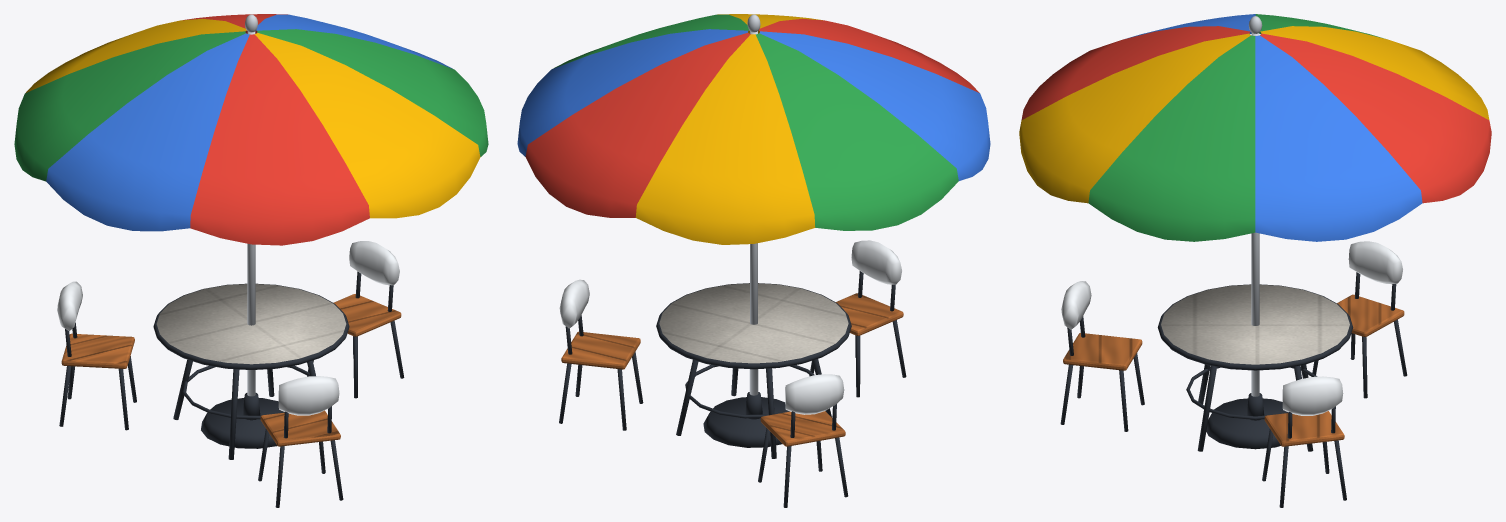
The model's file is prop_umbrella_bistro.glb.
3 views of the same model, side by side, from view 1: azimuth 30°, elevation 25°; view 2: azimuth 150°, elevation 25°; view 3: azimuth 270°, elevation 25° (orthographic).
Parts seen in each view (by area): view 1: Umb_CanopyRed, Umb_CanopyBlue, Umb_CanopyYellow, Umb_CanopyGreen, Umb_BistroTable, Umb_MetalFrames, Umb_ChairSeats, Umb_ChairBacks, Umb_AluminumPoleRibs; view 2: Umb_CanopyYellow, Umb_CanopyGreen, Umb_CanopyRed, Umb_CanopyBlue, Umb_BistroTable, Umb_MetalFrames, Umb_ChairSeats, Umb_ChairBacks, Umb_AluminumPoleRibs; view 3: Umb_CanopyBlue, Umb_CanopyGreen, Umb_CanopyRed, Umb_CanopyYellow, Umb_BistroTable, Umb_MetalFrames, Umb_ChairSeats, Umb_ChairBacks, Umb_AluminumPoleRibs.
Part boxes in pixels (<box>): Umb_CanopyRed: <box>183,14,369,245</box>; Umb_CanopyBlue: <box>46,14,452,231</box>; Umb_CanopyYellow: <box>26,18,480,218</box>; Umb_CanopyGreen: <box>14,29,488,181</box>; Umb_BistroTable: <box>156,284,346,364</box>; Umb_MetalFrames: <box>59,271,404,507</box>; Umb_ChairSeats: <box>61,294,401,446</box>; Umb_ChairBacks: <box>57,241,399,415</box>; Umb_AluminumPoleRibs: <box>245,14,257,396</box>; Umb_CanopyYellow: <box>635,14,822,244</box>; Umb_CanopyGreen: <box>553,14,958,230</box>; Umb_CanopyRed: <box>525,18,979,217</box>; Umb_CanopyBlue: <box>517,29,990,180</box>; Umb_BistroTable: <box>659,283,848,363</box>; Umb_MetalFrames: <box>559,271,906,507</box>; Umb_ChairSeats: <box>561,293,903,446</box>; Umb_ChairBacks: <box>559,240,901,414</box>; Umb_AluminumPoleRibs: <box>747,14,760,395</box>; Umb_CanopyBlue: <box>1125,14,1422,241</box>; Umb_CanopyGreen: <box>1088,14,1385,241</box>; Umb_CanopyRed: <box>1021,26,1491,203</box>; Umb_CanopyYellow: <box>1019,26,1489,203</box>; Umb_BistroTable: <box>1161,284,1349,364</box>; Umb_MetalFrames: <box>1060,272,1407,507</box>; Umb_ChairSeats: <box>1063,294,1404,446</box>; Umb_ChairBacks: <box>1061,241,1402,415</box>; Umb_AluminumPoleRibs: <box>1248,16,1262,396</box>.
Size of the model in its own units: 3.15 by 3.03 by 3.15.
Materials: 9 (2 with a texture image).
